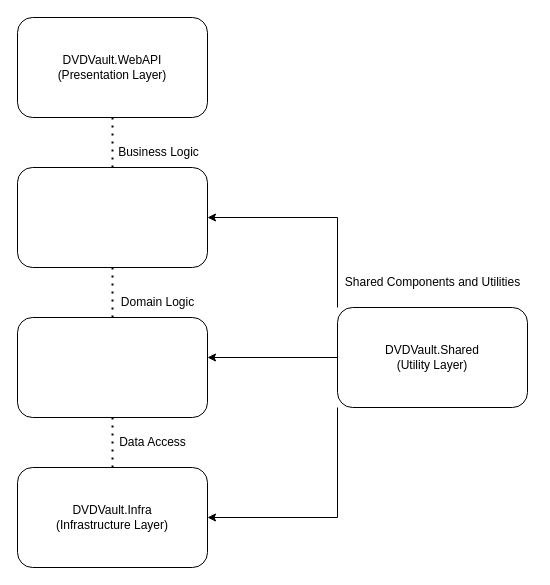
Image size: 550x585. Some labels were removed from this diagram. Each missing label, with the centre of its shape:
"DVDVault.Application (Application Layer)" belongs at point (112, 217).
"DVDVault.Domain (Presentation Layer)" belongs at point (112, 367).
